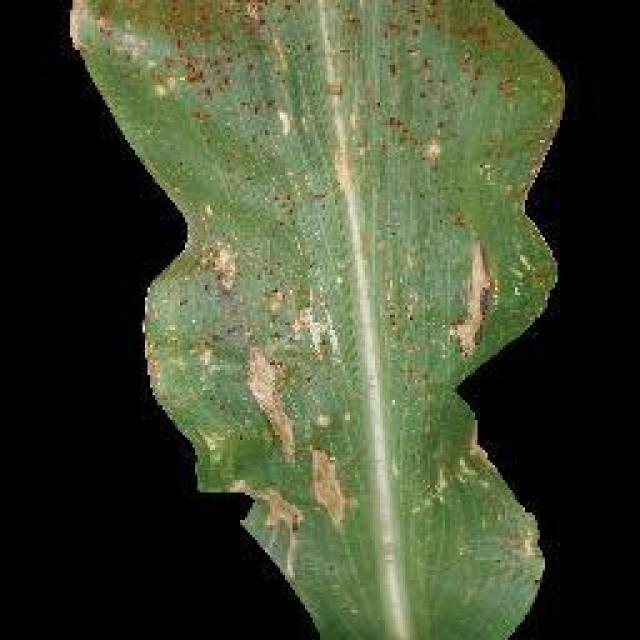Corn Common Rust: (143, 0, 539, 528)
